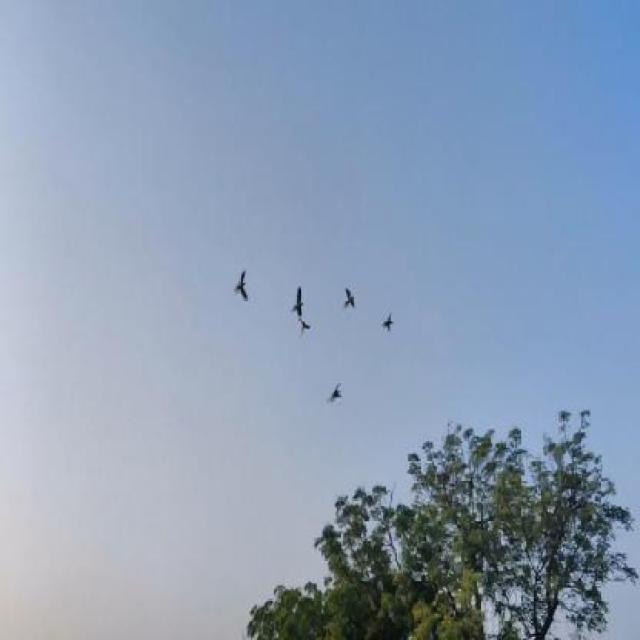bird: (232, 264, 250, 305), (290, 278, 302, 318), (343, 281, 357, 314), (295, 315, 311, 340), (325, 382, 343, 403), (380, 309, 394, 334)
